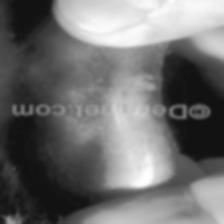Potentially Malignant Skin Tumors: (113, 70, 164, 104)
